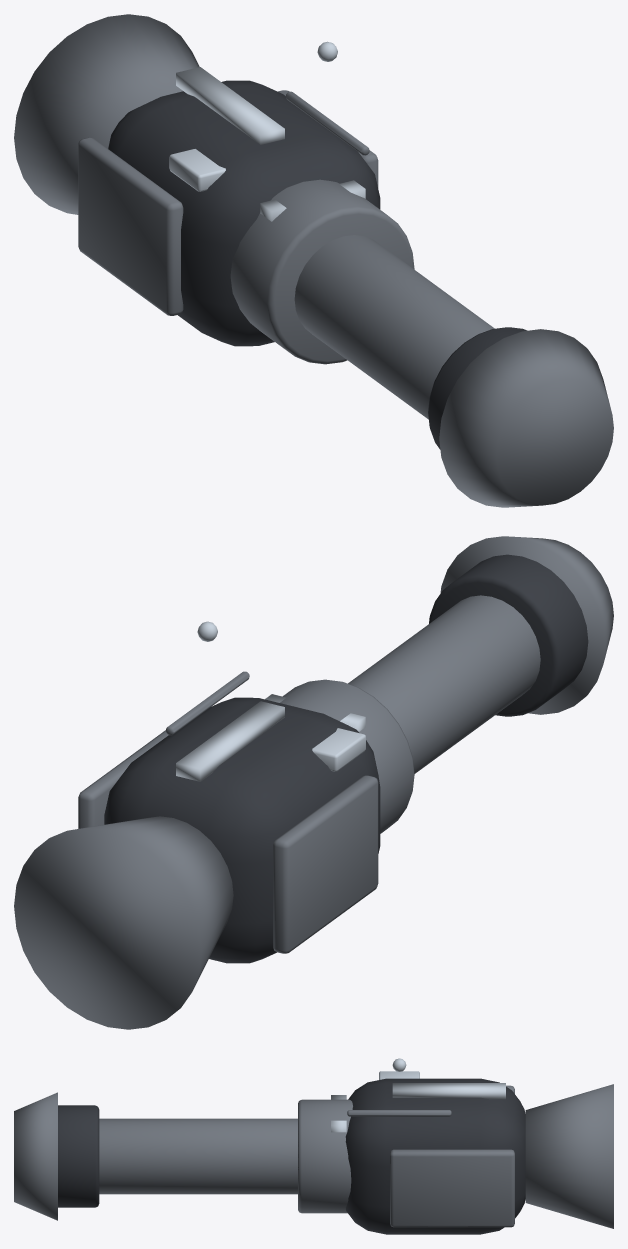
Rendered from weapon_drone_ember_bolt.glb.
The picture shows the model from 3 angles, top to bottom: view 1: azimuth 30°, elevation 25°; view 2: azimuth 150°, elevation 25°; view 3: azimuth 270°, elevation 25°; orthographic projection. The views are drawn at different scales.
Parts seen in each view (by area): view 1: weapon_drone_ember_bolt; view 2: weapon_drone_ember_bolt; view 3: weapon_drone_ember_bolt.
Part boxes in pixels (<box>): weapon_drone_ember_bolt: <box>14,14,613,507</box>; weapon_drone_ember_bolt: <box>14,536,613,1029</box>; weapon_drone_ember_bolt: <box>14,1058,613,1234</box>.
Bounding box in the file's own units: 0.5184 × 0.64 × 1.9.
